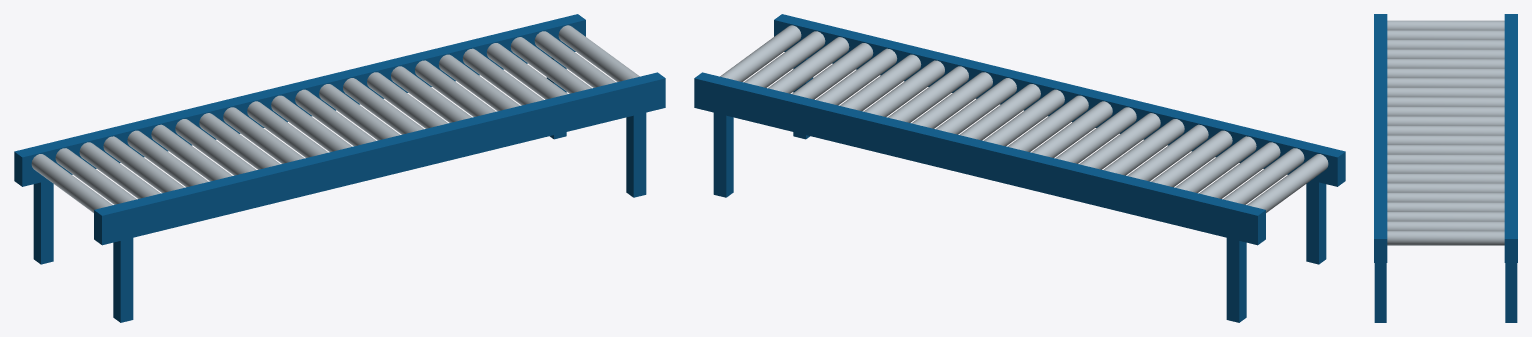
Rendered from roller_conveyor.dae.
3 views of the same model, side by side, from view 1: azimuth 30°, elevation 25°; view 2: azimuth 150°, elevation 25°; view 3: azimuth 270°, elevation 25° (orthographic). The views are drawn at different scales.
Parts seen in each view (by area): view 1: roller_conveyor; view 2: roller_conveyor; view 3: roller_conveyor.
Part boxes in pixels (x1,y1,x2,y2): roller_conveyor: [14, 14, 665, 322]; roller_conveyor: [694, 14, 1345, 322]; roller_conveyor: [1374, 14, 1517, 322].
Size of the model in its own units: 4 by 1.08 by 0.76.
